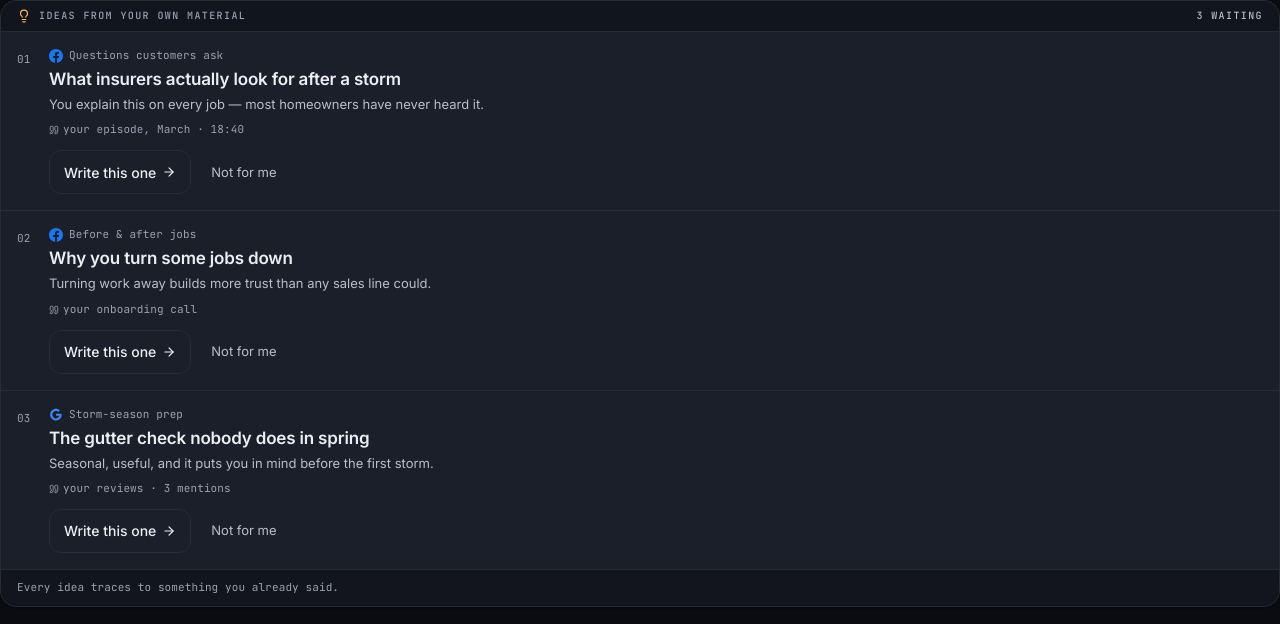
Test case: IdeaCard › skipping an idea removes it and offers it back
Click the button "Not for me" below "your episode, March · 18:40". click: (244,172)
box: [199,150,289,194]
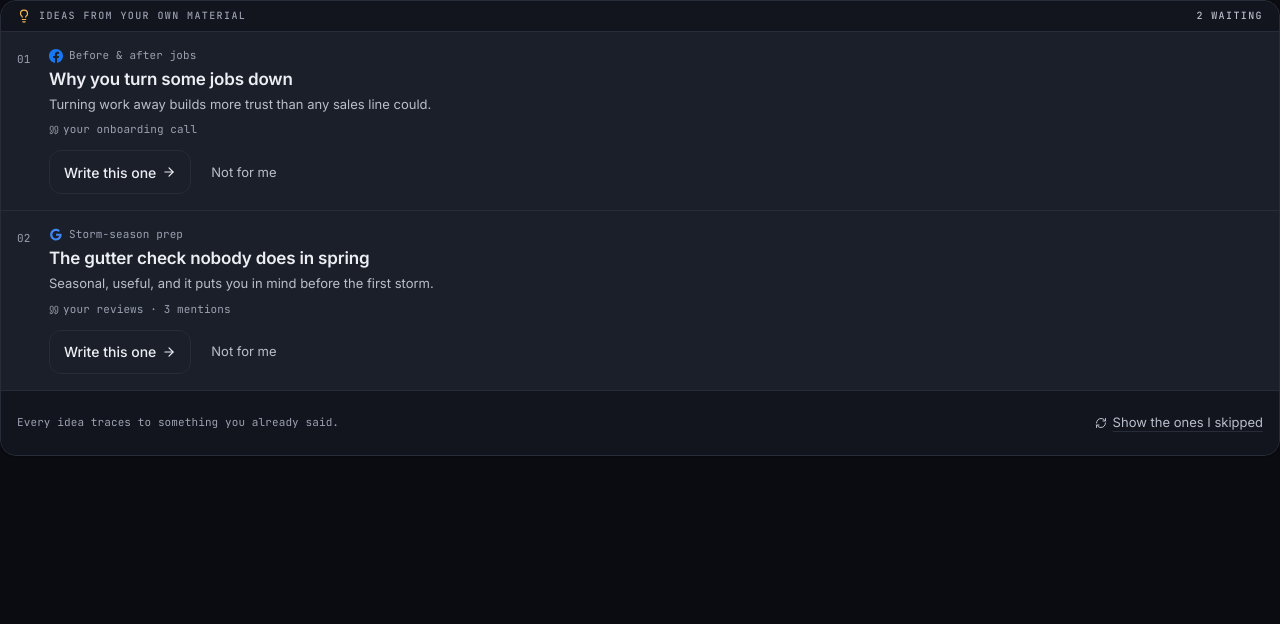
Expected: the number of buttons "Write this one" is 2, [49,150,191,194]; [49,330,191,374]
Expected: the button "Show the ones I skipped" is shown, [1095,401,1263,445]
